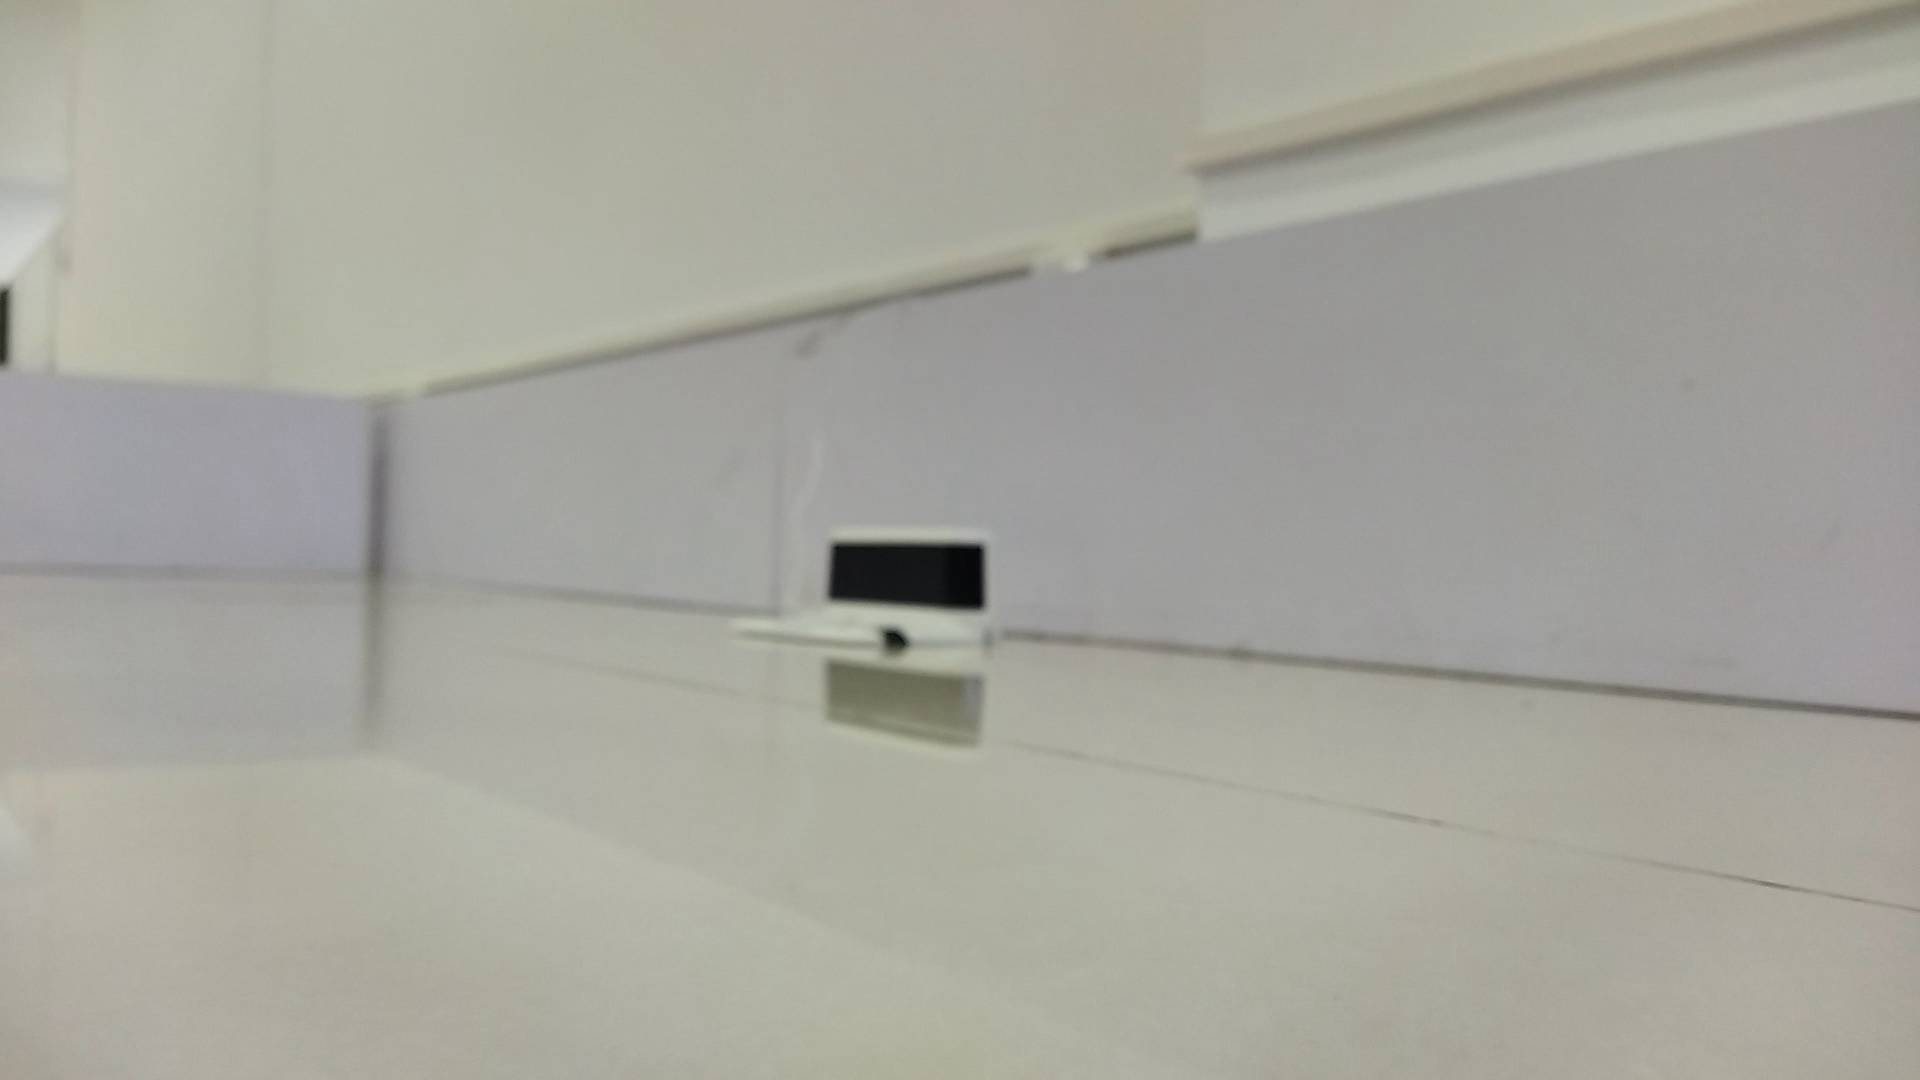recharge seat: (735, 526, 1002, 647)
